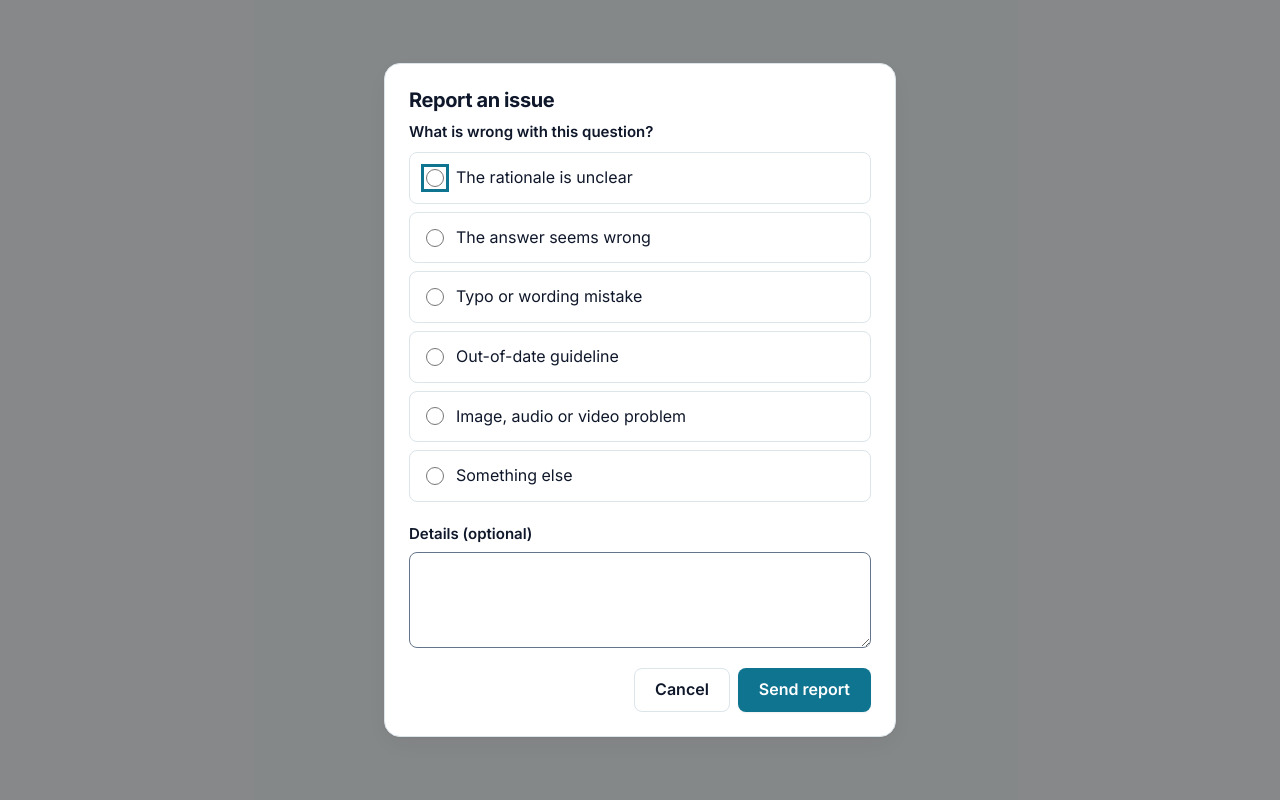
Scenario: ReportIssueDialog › asks for a reason before sending
The image size is (1280, 800).
Click the button "Send report". click: (804, 690)
box: [738,668,871,712]
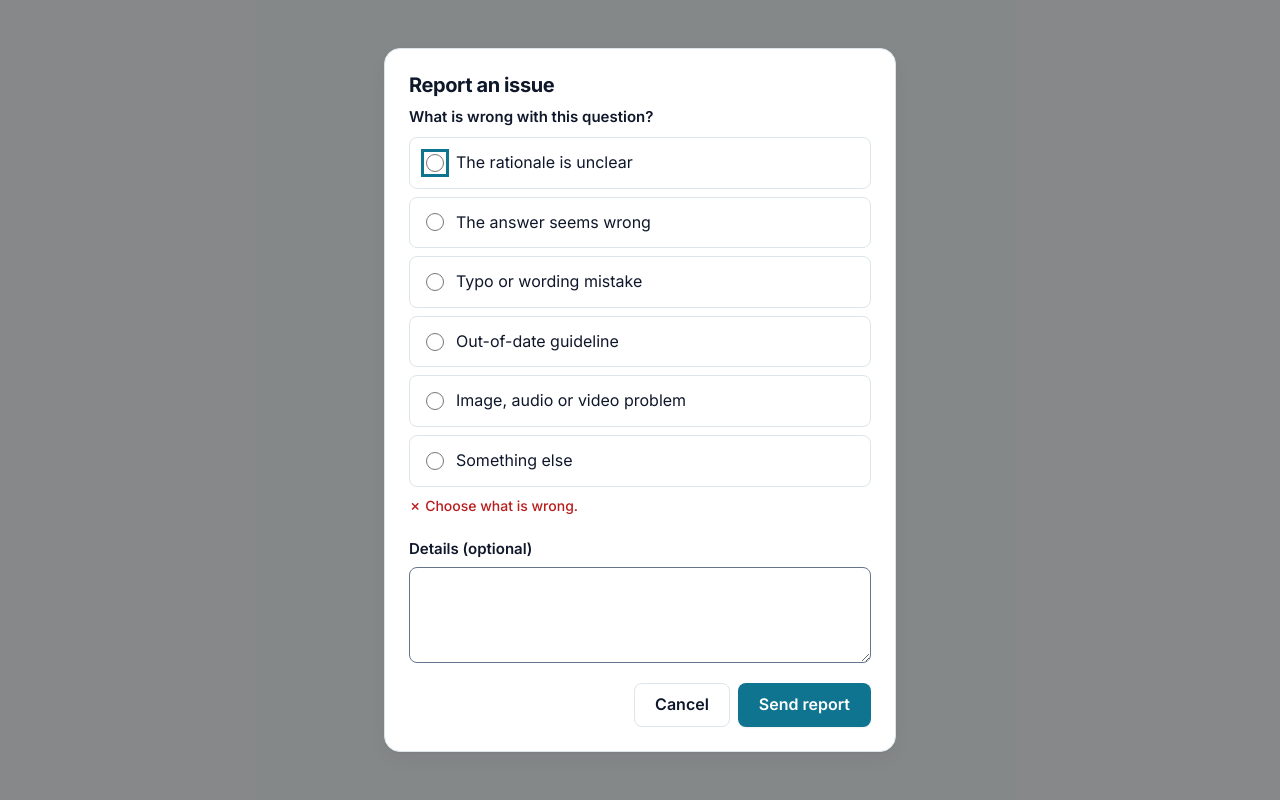
Result: the text "Choose what is wrong." is shown at [425,497,578,514]
